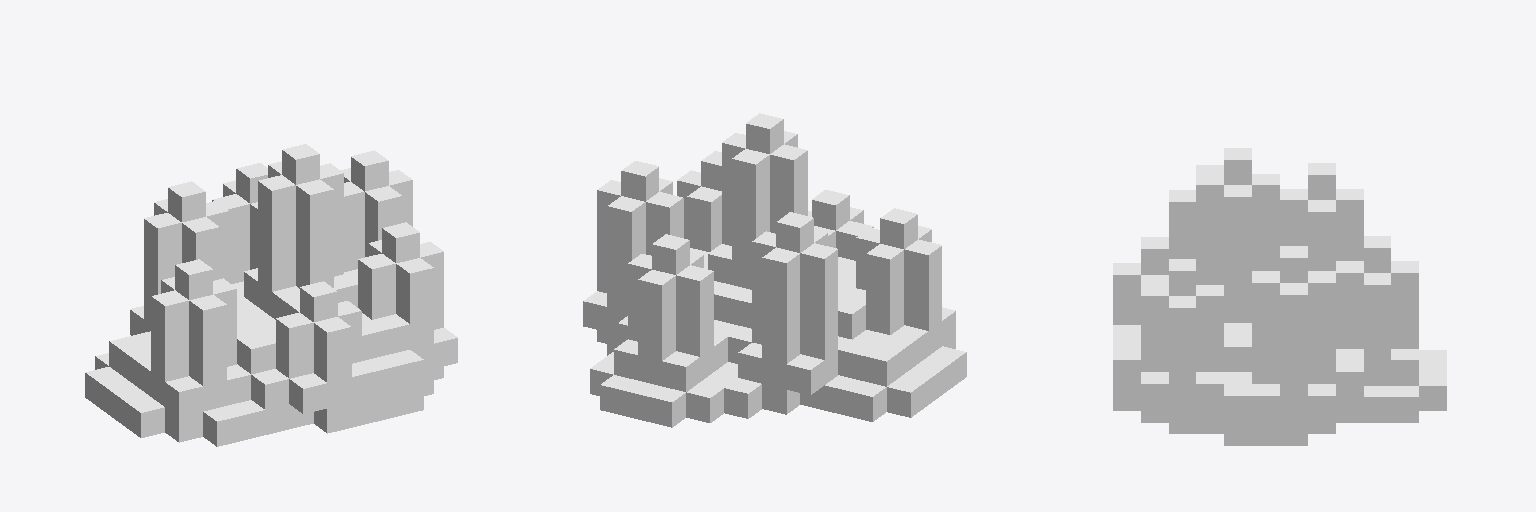
File: OpalDeposit_M.obj
3 renders of one model, left to right at view 1: azimuth 30°, elevation 25°; view 2: azimuth 150°, elevation 25°; view 3: azimuth 270°, elevation 25°, orthographic.
Parts seen in each view (by area): view 1: OpalDeposit_M; view 2: OpalDeposit_M; view 3: OpalDeposit_M.
Part boxes in pixels (left/top/right/bottom): OpalDeposit_M: left=85, top=144, right=457, bottom=446; OpalDeposit_M: left=583, top=113, right=966, bottom=427; OpalDeposit_M: left=1113, top=148, right=1446, bottom=445.
Size of the model in its own units: 1.3 by 0.9 by 1.2.